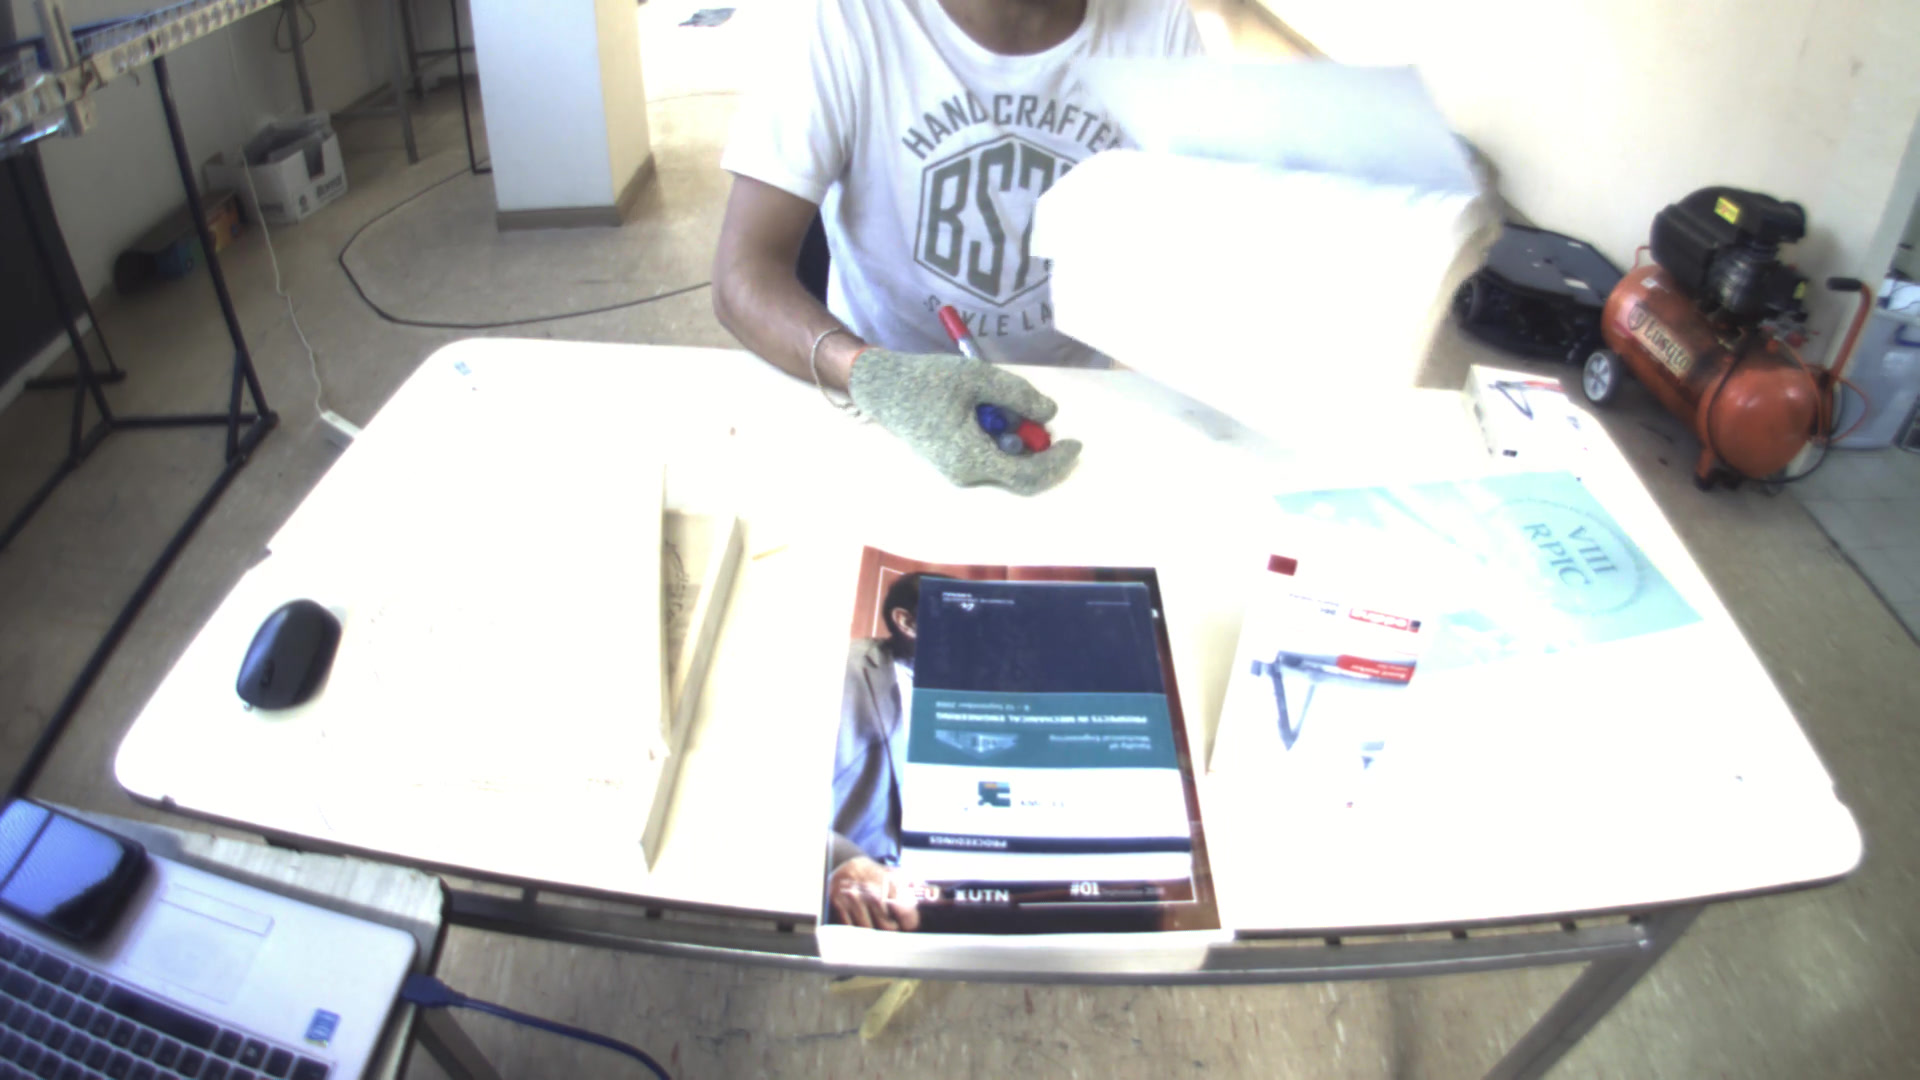hand: (839, 339, 1080, 502)
